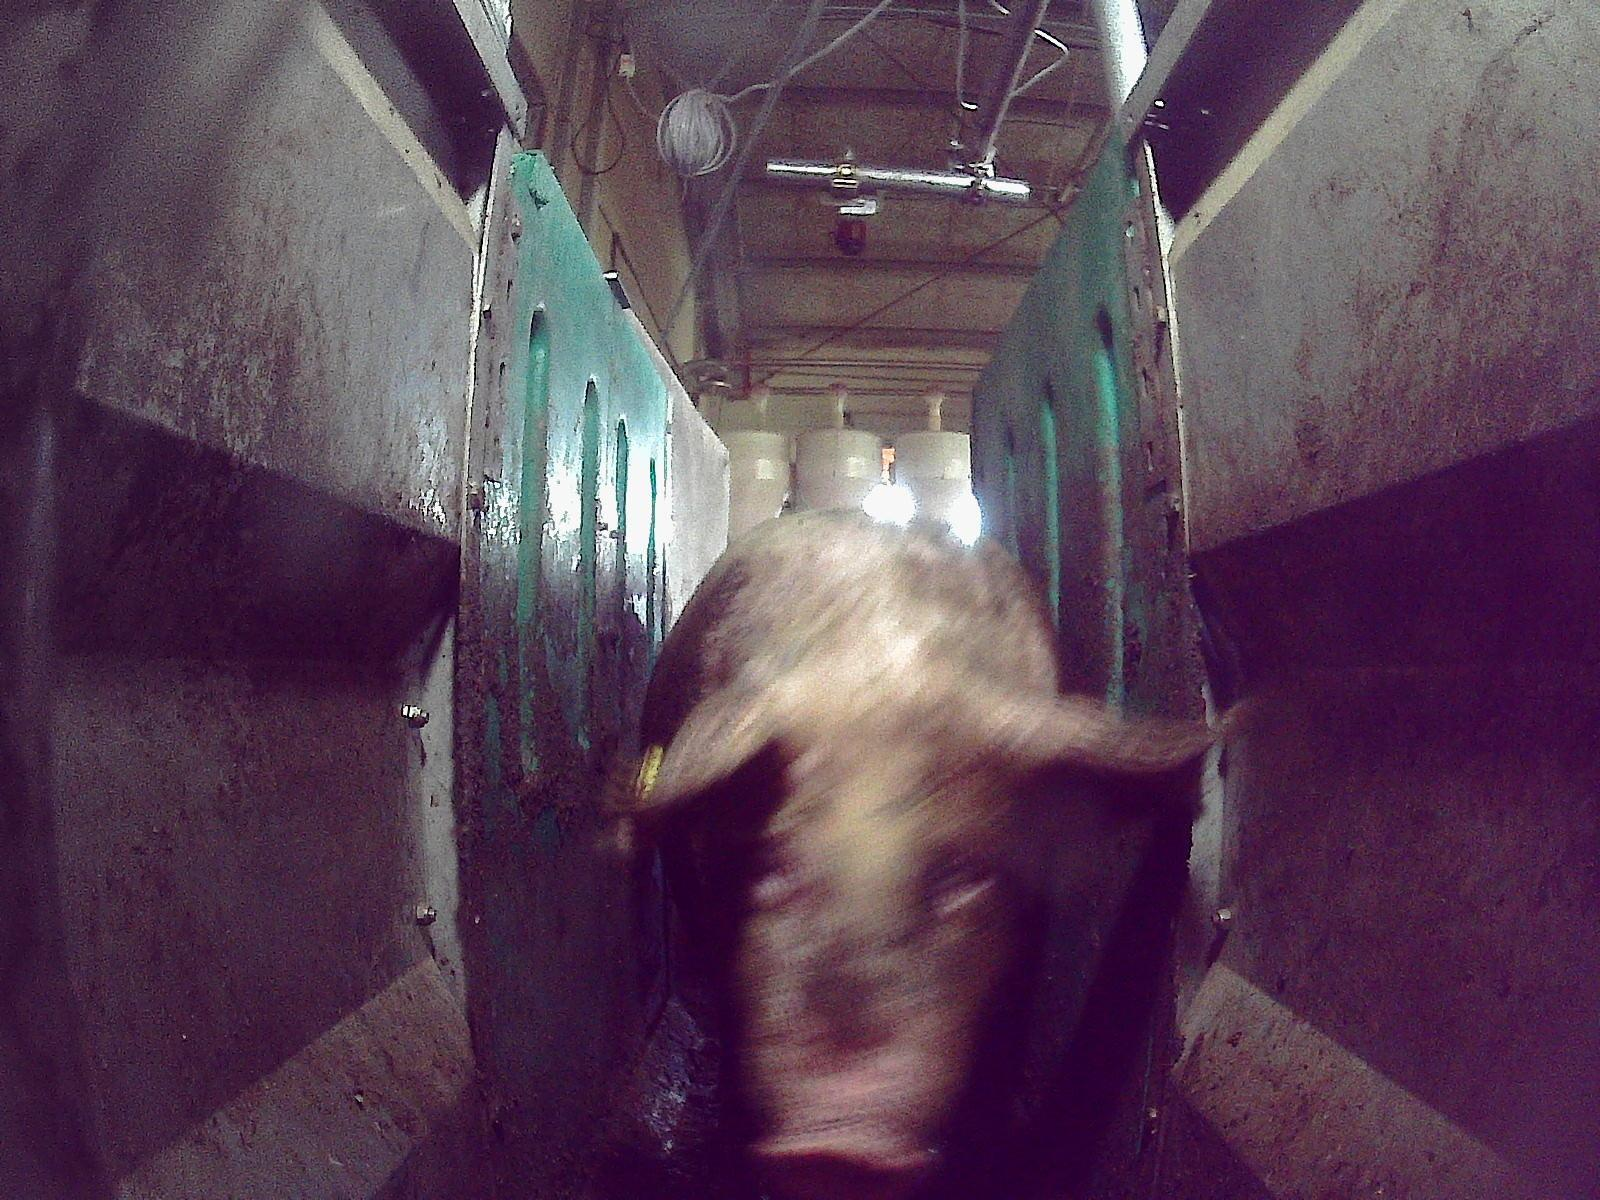Face: (731, 697, 1050, 1199)
